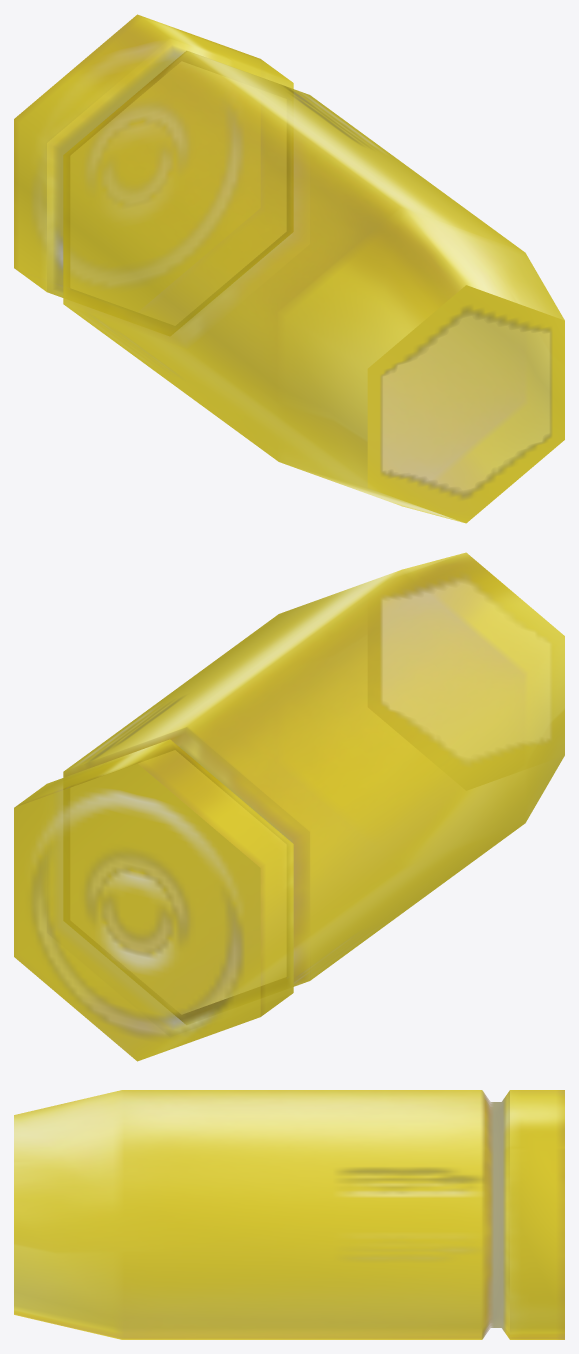
3 renders of one model, top to bottom at view 1: azimuth 30°, elevation 25°; view 2: azimuth 150°, elevation 25°; view 3: azimuth 270°, elevation 25°, orthographic. The views are drawn at different scales.
Visible parts, largest first — view 1: layer_00_oe0911U; view 2: layer_00_oe0911U; view 3: layer_00_oe0911U.
Boxes of the visible parts, <box> form: layer_00_oe0911U: <box>14,14,564,523</box>; layer_00_oe0911U: <box>14,552,564,1061</box>; layer_00_oe0911U: <box>14,1090,564,1339</box>.
Size of the model in its own units: 0.866 by 1 by 2.
1 material, 1 textured.
